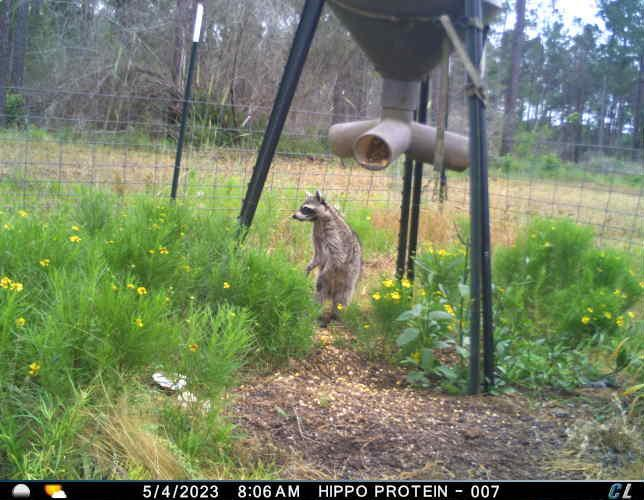Raccoon: (290, 186, 365, 325)
